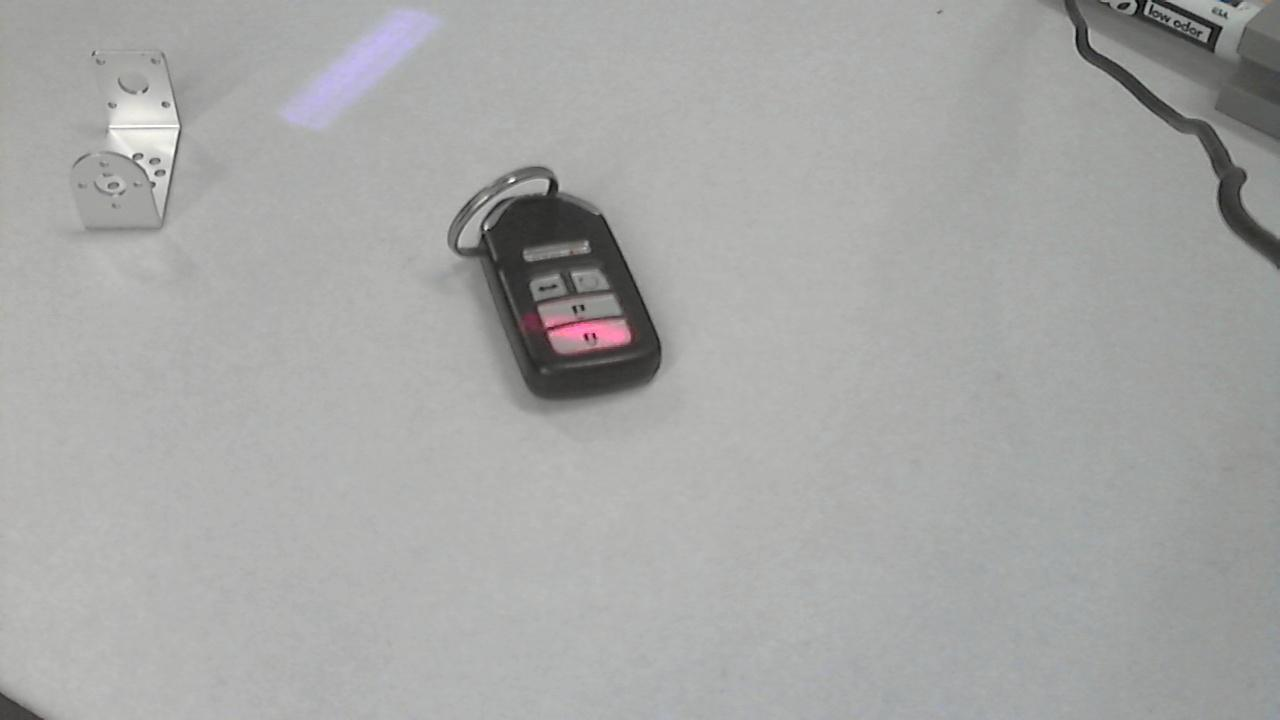Object car key fob with keyring - Material plastic - Pdfname u4lxlaYXiY3D: (515, 297, 668, 367)
